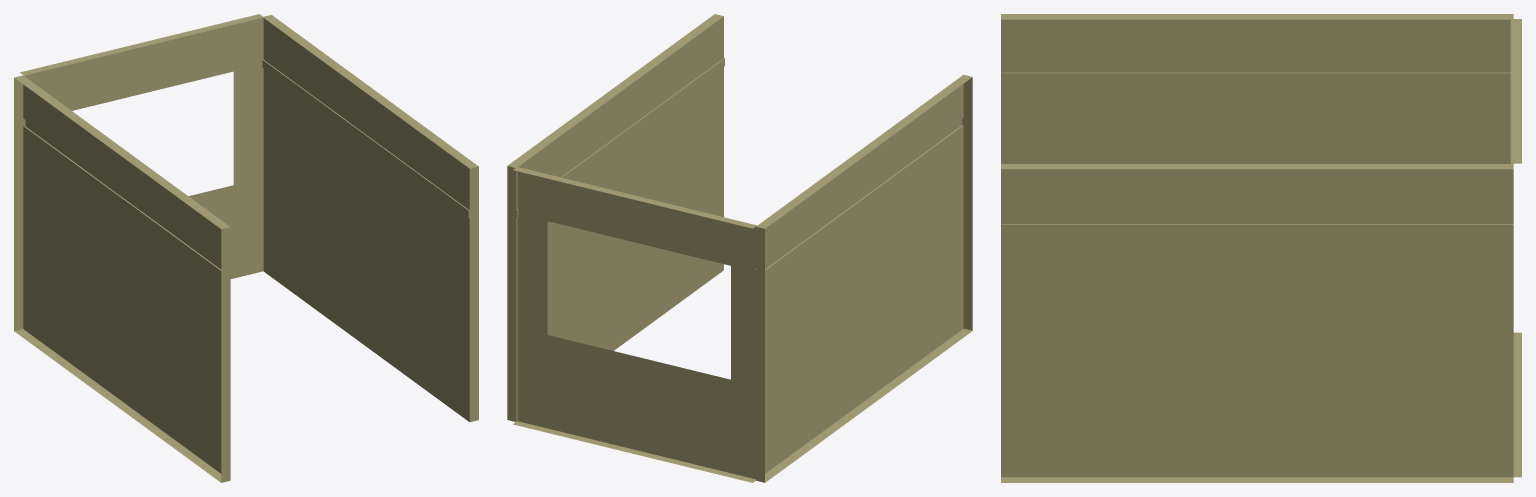
The model's file is Normalwall.fbx.
3 views of the same model, side by side, from view 1: azimuth 30°, elevation 25°; view 2: azimuth 150°, elevation 25°; view 3: azimuth 270°, elevation 25° (orthographic). The views are drawn at different scales.
Visible parts, largest first — view 1: WallwithWindow; view 2: WallwithWindow; view 3: WallwithWindow.
Part boxes in pixels (box(x1,y1,x2,y2)): WallwithWindow: box(14, 14, 478, 482); WallwithWindow: box(507, 14, 972, 482); WallwithWindow: box(1001, 14, 1521, 482).
Size of the model in its own units: 17.52 by 16.51 by 24.82.
